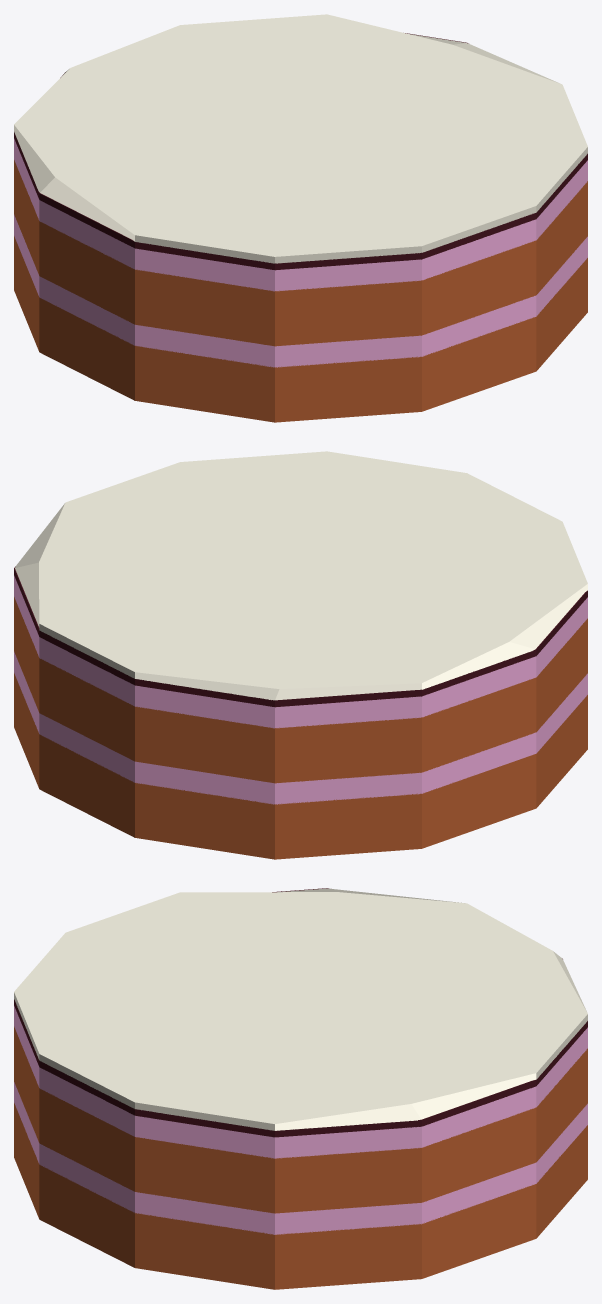
Rendered from CircularCake.gltf.
3 views of the same model, one above another, from view 1: azimuth 30°, elevation 25°; view 2: azimuth 150°, elevation 25°; view 3: azimuth 270°, elevation 25° (orthographic).
Parts seen in each view (by area): view 1: Cylinder.005, Cylinder, Cylinder.001, Cylinder.002, Cylinder.003, Cylinder.004; view 2: Cylinder.005, Cylinder, Cylinder.001, Cylinder.002, Cylinder.003, Cylinder.004; view 3: Cylinder.005, Cylinder, Cylinder.001, Cylinder.002, Cylinder.003, Cylinder.004.
Boxes of the visible parts, box(x1,y1,x2,y2) form: Cylinder.005: box(14, 14, 587, 263); Cylinder: box(14, 236, 587, 422); Cylinder.001: box(14, 160, 587, 346); Cylinder.002: box(14, 214, 587, 367); Cylinder.003: box(14, 138, 587, 291); Cylinder.004: box(14, 33, 587, 270); Cylinder.005: box(15, 451, 587, 700); Cylinder: box(14, 673, 587, 859); Cylinder.001: box(14, 597, 587, 783); Cylinder.002: box(14, 651, 587, 804); Cylinder.003: box(14, 575, 587, 728); Cylinder.004: box(14, 566, 587, 707); Cylinder.005: box(14, 888, 587, 1130); Cylinder: box(14, 1103, 587, 1289); Cylinder.001: box(14, 1026, 587, 1213); Cylinder.002: box(14, 1082, 587, 1234); Cylinder.003: box(14, 1006, 587, 1158); Cylinder.004: box(14, 888, 587, 1137).
Size of the model in its own units: 1.51 by 0.4854 by 1.51.
